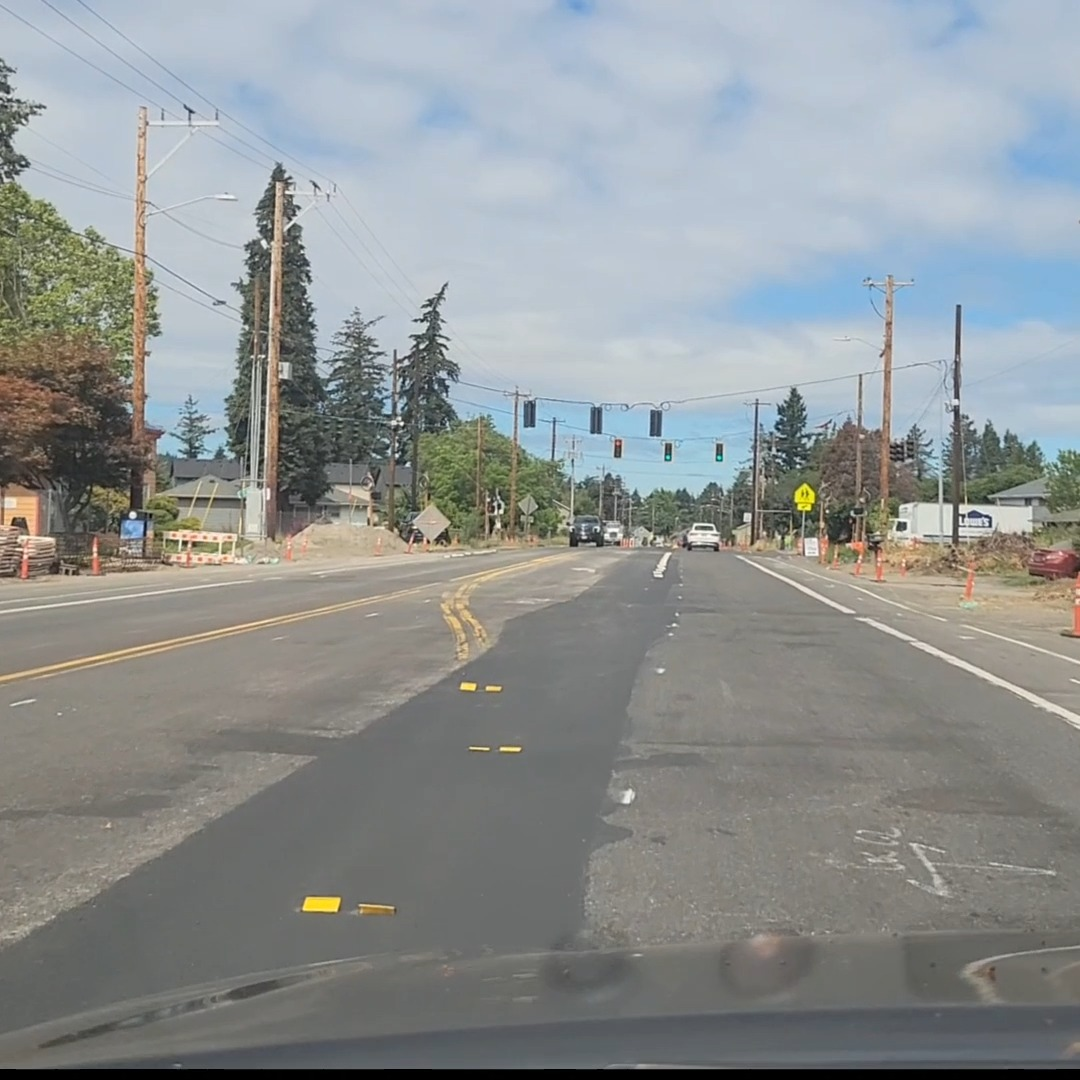car: (394, 512, 446, 544), (566, 514, 603, 548), (683, 522, 721, 551), (601, 521, 624, 546)
crosswalk-sign: (793, 482, 815, 510)
delineator: (1062, 570, 1078, 636), (958, 567, 980, 610), (851, 543, 865, 575), (90, 536, 101, 575), (19, 543, 30, 579), (873, 549, 884, 581), (183, 546, 193, 567), (373, 535, 383, 556), (405, 532, 415, 553), (284, 537, 293, 560), (831, 545, 840, 568), (818, 538, 826, 563), (899, 553, 907, 575), (300, 534, 308, 555), (527, 534, 532, 542)
